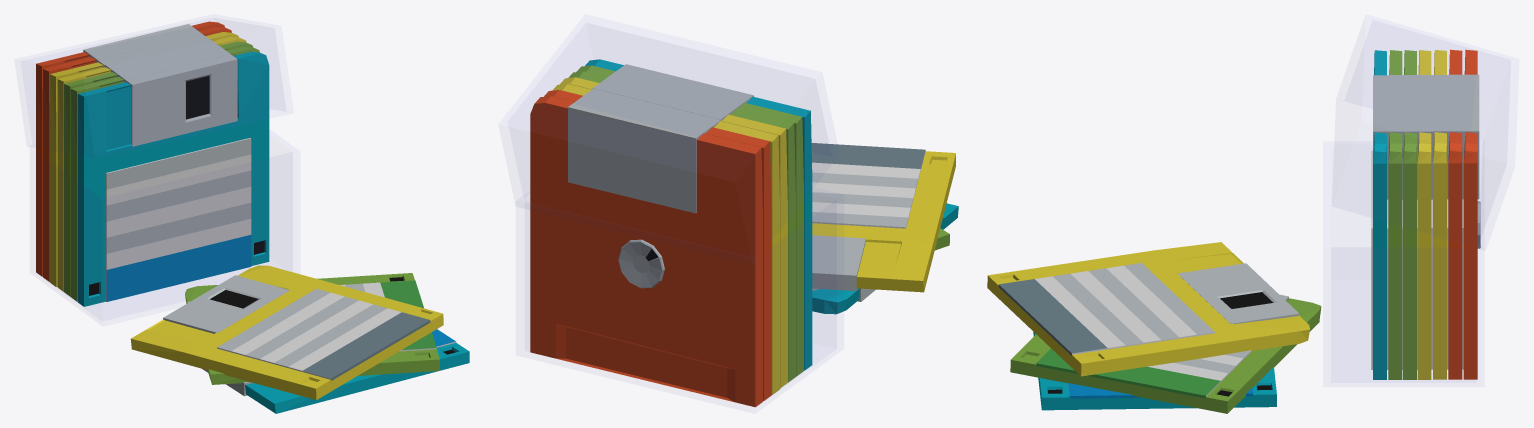
3 renders of one model, left to right at view 1: azimuth 30°, elevation 25°; view 2: azimuth 150°, elevation 25°; view 3: azimuth 270°, elevation 25°, orthographic. The views are drawn at different scales.
Visible parts, largest first — view 1: node_MeshObject1457854720-PolyPaper9; view 2: node_MeshObject1457854720-PolyPaper9; view 3: node_MeshObject1457854720-PolyPaper9.
Part boxes in pixels (box(x1,y1,x2,y2)): node_MeshObject1457854720-PolyPaper9: box(36, 21, 469, 413); node_MeshObject1457854720-PolyPaper9: box(530, 59, 958, 407); node_MeshObject1457854720-PolyPaper9: box(987, 49, 1480, 413).
Bounding box in the file's own units: 4.71 × 3.88 × 6.92.
